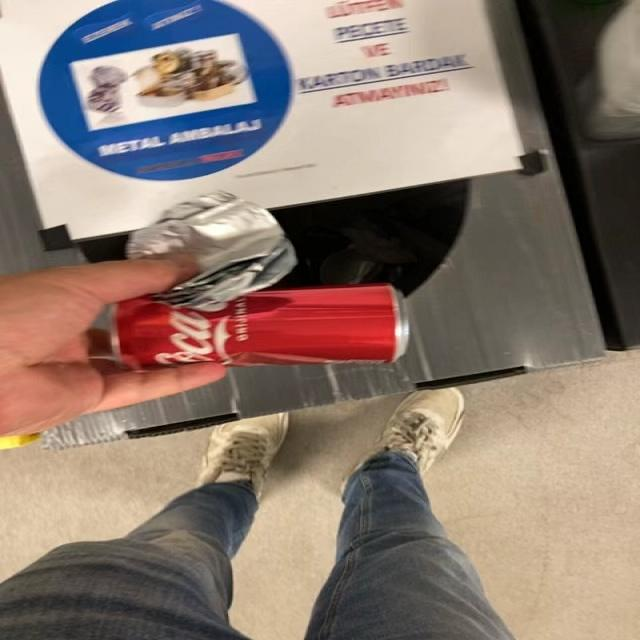bin: (1, 0, 604, 448)
metal: (105, 193, 407, 366)
